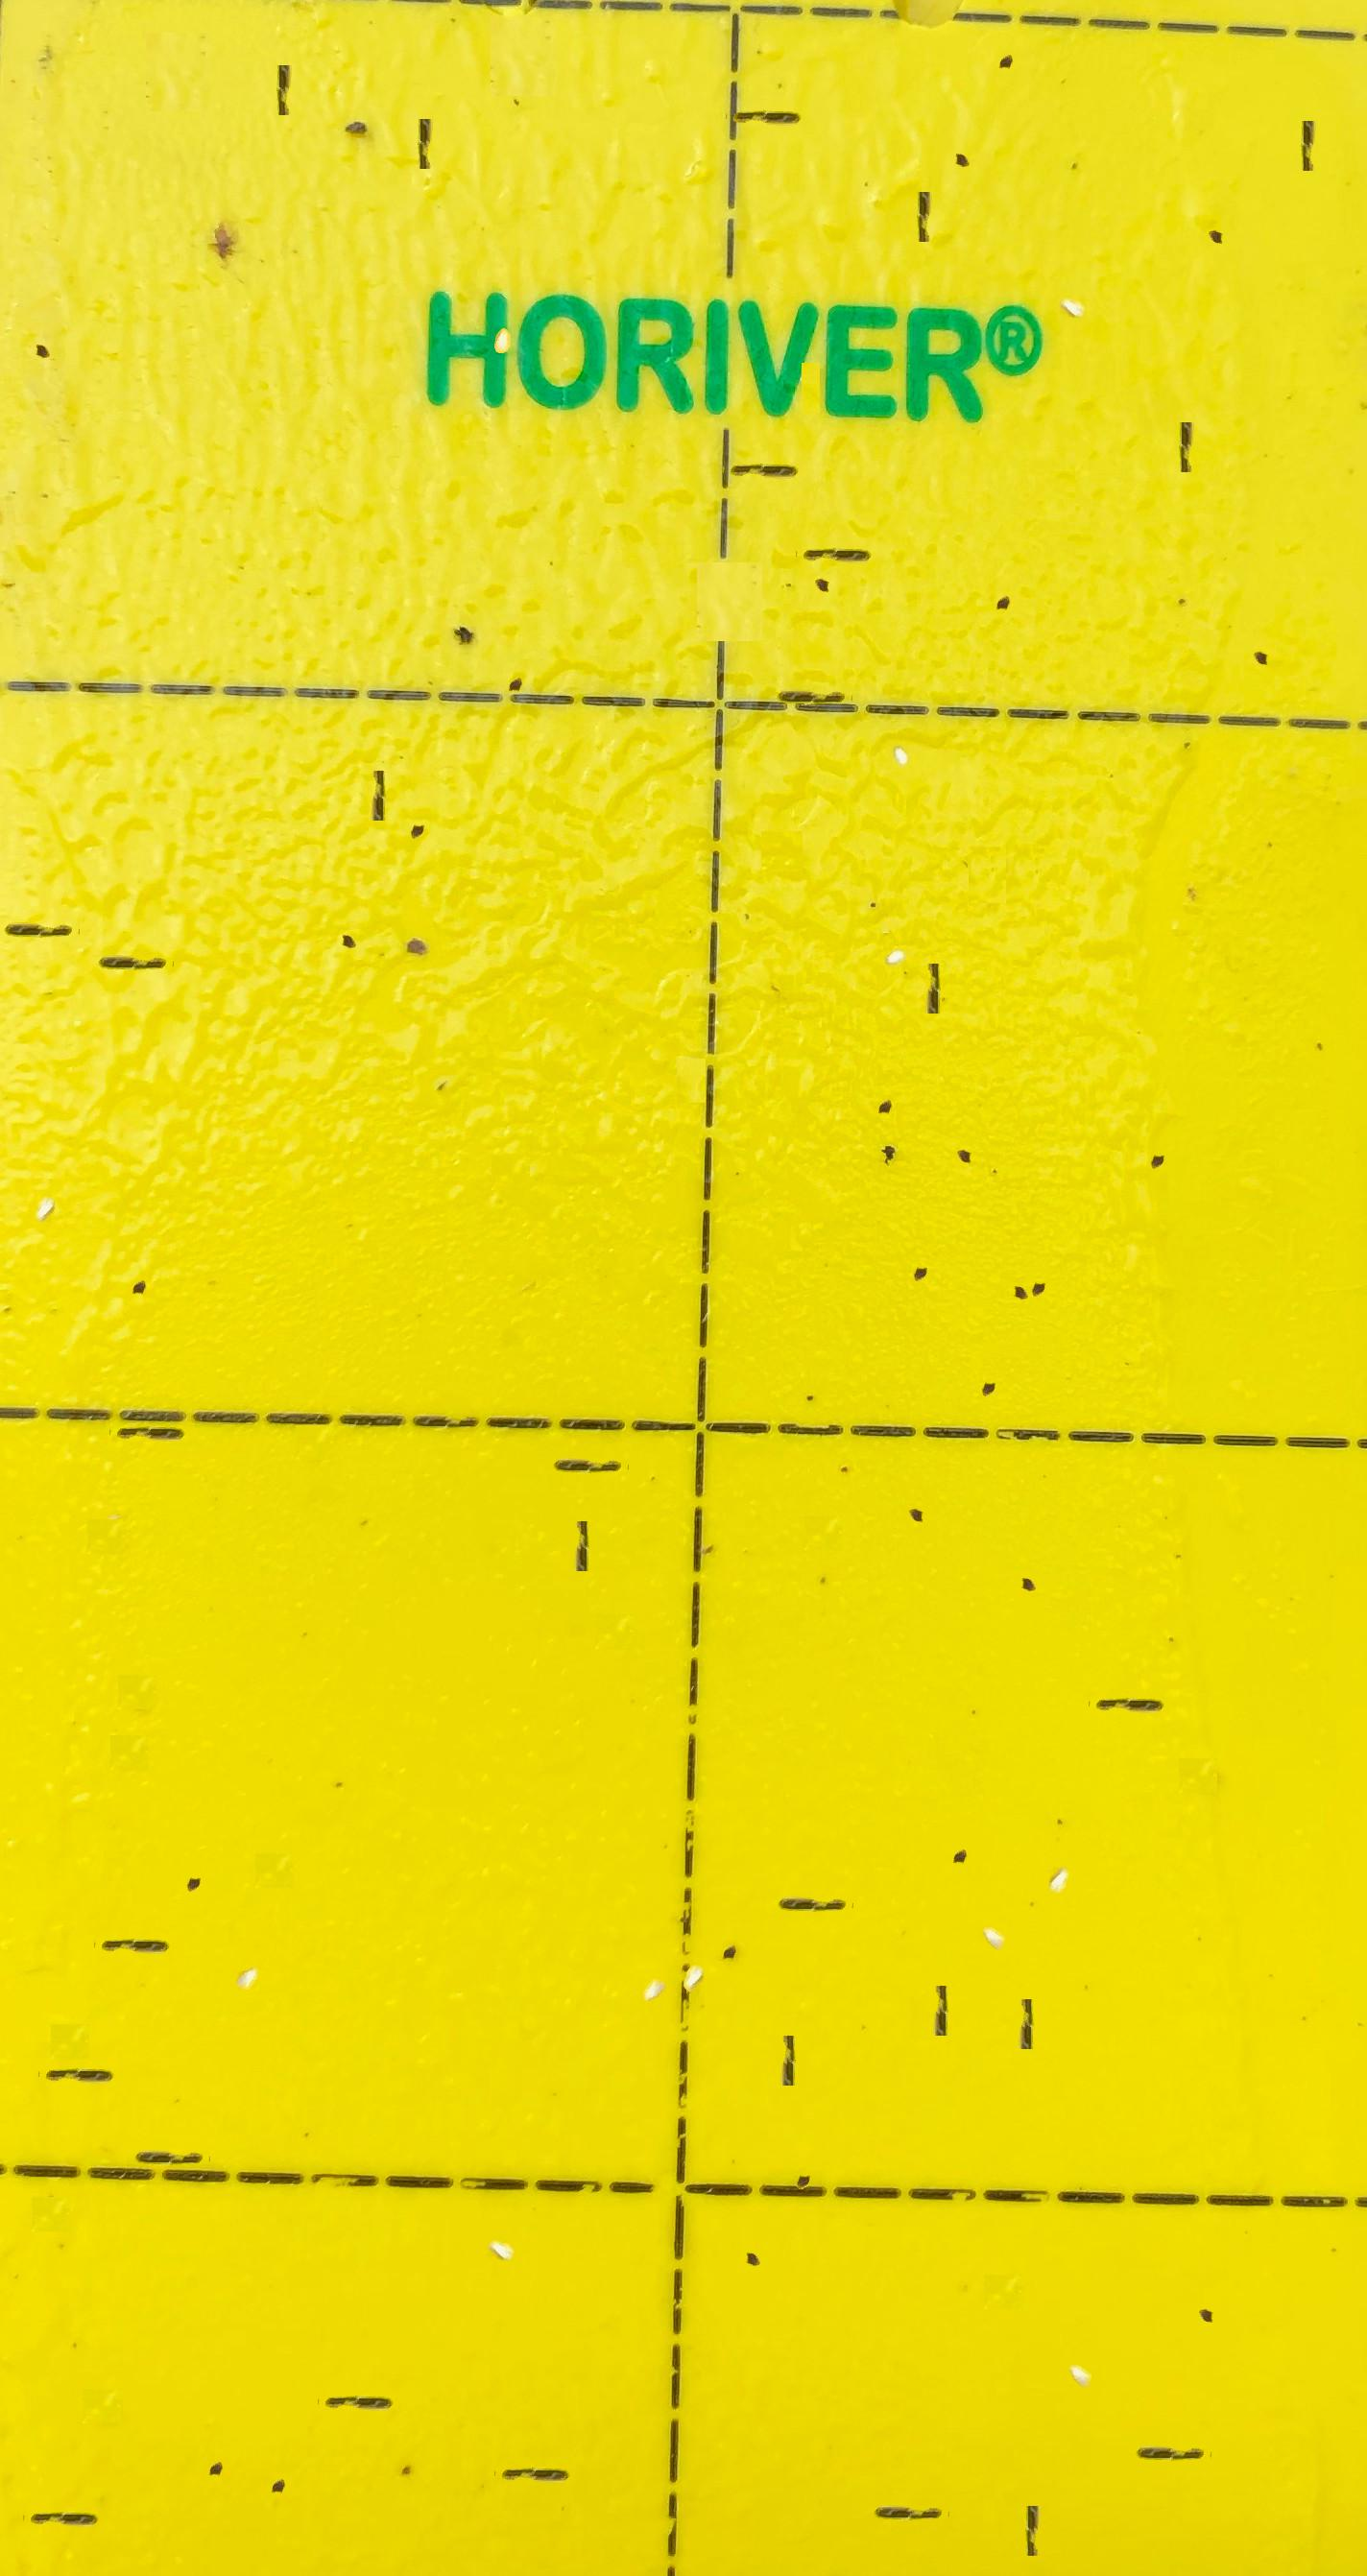white_fly: (880, 685, 922, 733), (482, 2181, 525, 2227), (1053, 239, 1096, 285), (22, 1138, 65, 1184), (876, 886, 917, 934), (1040, 1816, 1082, 1860), (973, 1874, 1016, 1918), (672, 1906, 712, 1952), (1060, 2312, 1103, 2355), (225, 1915, 268, 1958), (634, 1923, 675, 1968), (481, 286, 522, 324)
